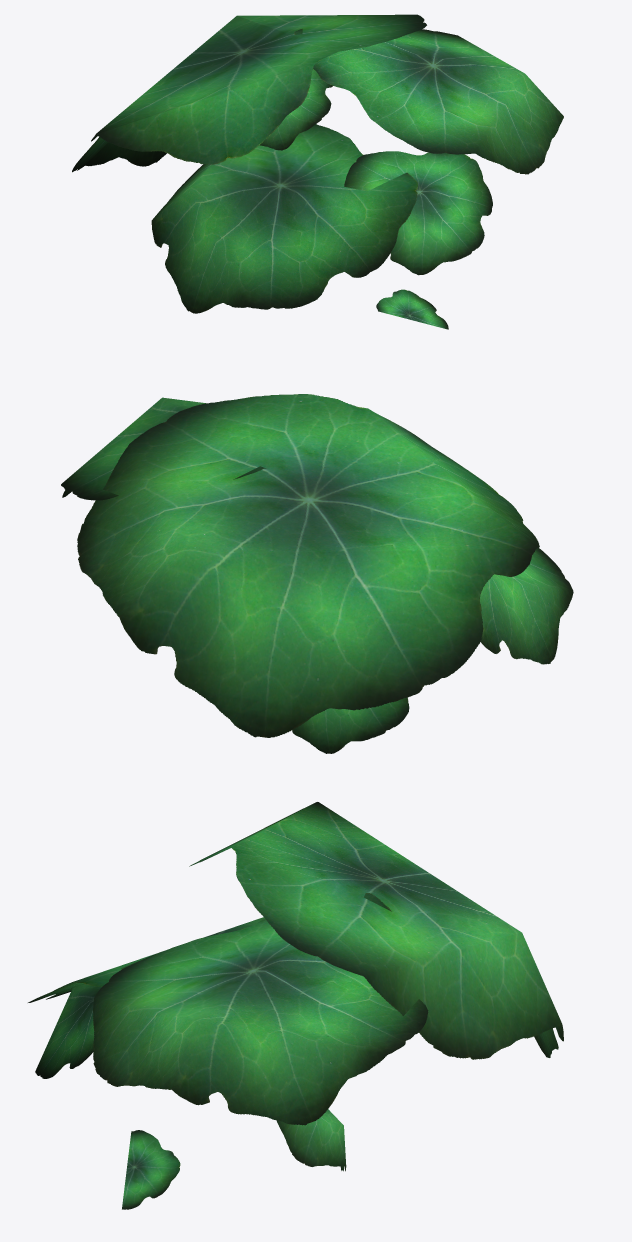
The model's file is leaflarge_lod2.fbx.
3 renders of one model, top to bottom at view 1: azimuth 30°, elevation 25°; view 2: azimuth 150°, elevation 25°; view 3: azimuth 270°, elevation 25°, orthographic. The views are drawn at different scales.
Parts seen in each view (by area): view 1: Mesh Object; view 2: Mesh Object; view 3: Mesh Object.
Part boxes in pixels (x1=…): Mesh Object: x1=72, y1=14, x2=563, y2=329; Mesh Object: x1=61, y1=394, x2=573, y2=753; Mesh Object: x1=28, y1=802, x2=563, y2=1209.
Size of the model in its own units: 1.54 by 0.9032 by 1.43.
